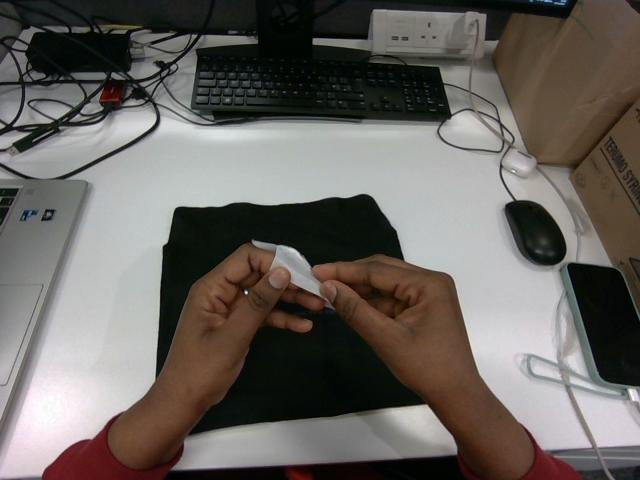gauze: (252, 240, 332, 308)
